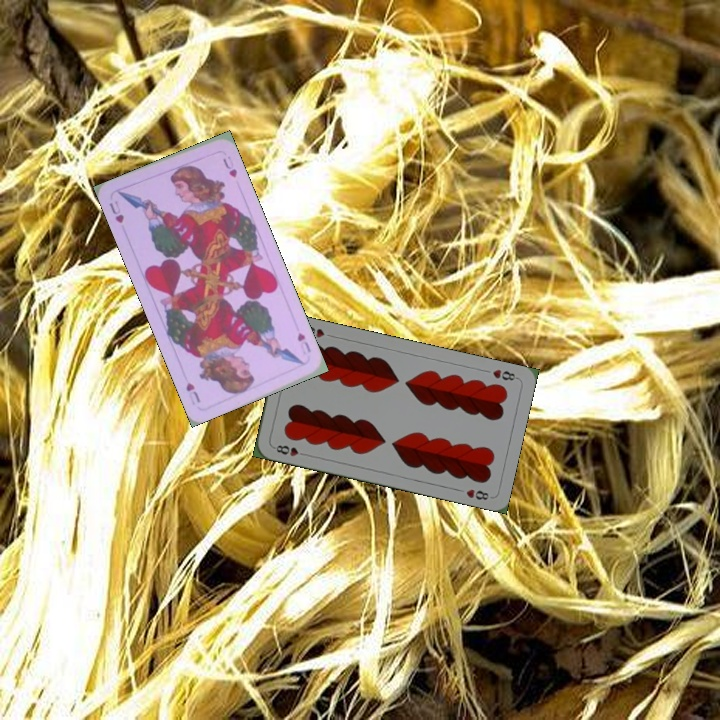H8: (270, 441, 310, 459), (489, 365, 520, 383)
HU: (105, 197, 127, 226), (293, 328, 313, 357)
